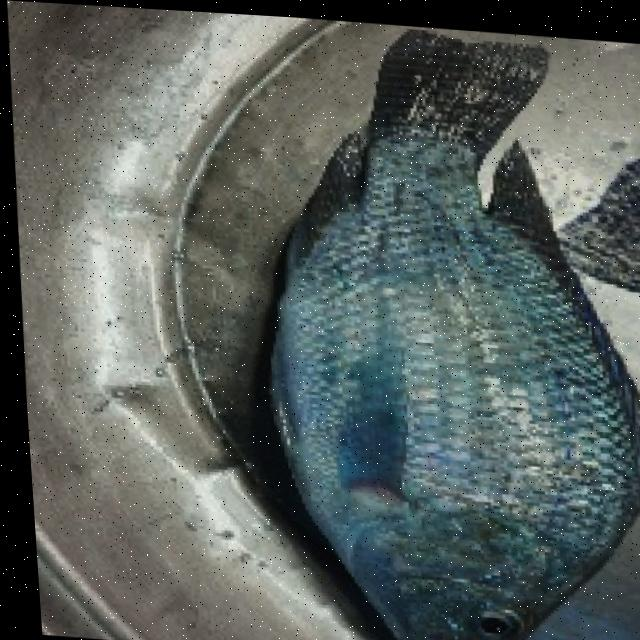Fresh: (258, 172, 640, 640)
